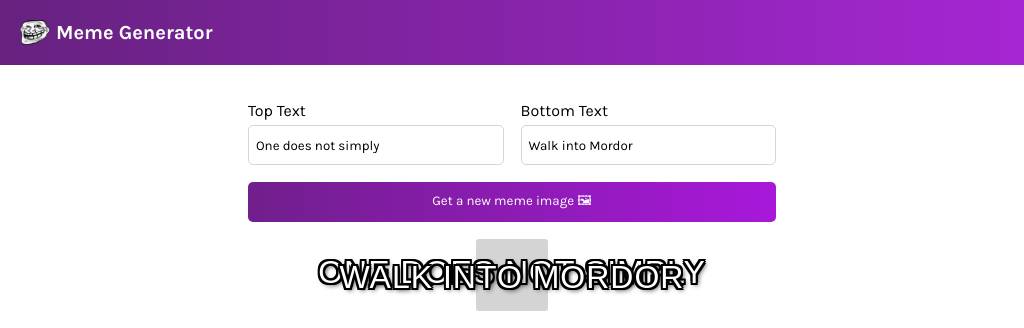
Test: App component › updates the bottom text
This screenshot has width=1024, height=328.
Type "Code without coffee" into the field labelled "Bottom Text". click: (648, 145)
box: [520,125,776,165]
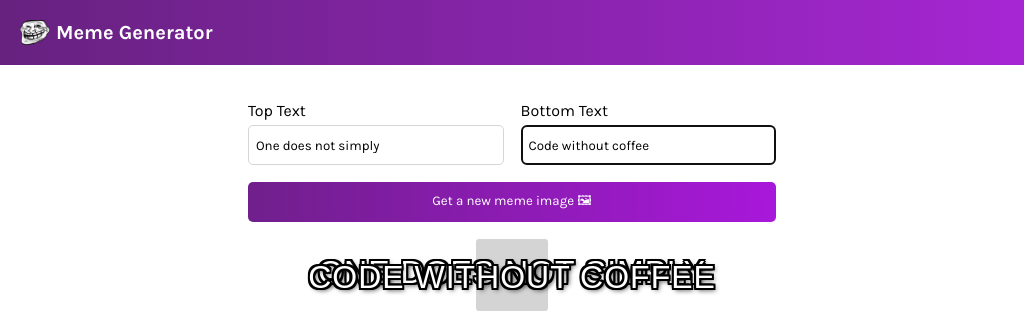
Now the text "Code without coffee" is shown, box [303,259,721,296]
